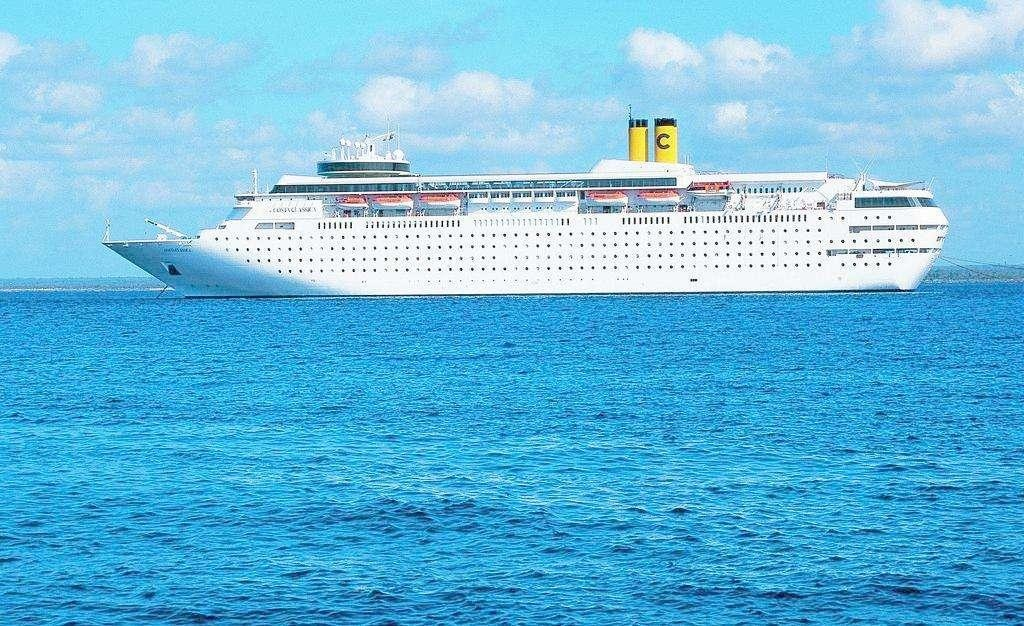youlun: (102, 101, 949, 297)
